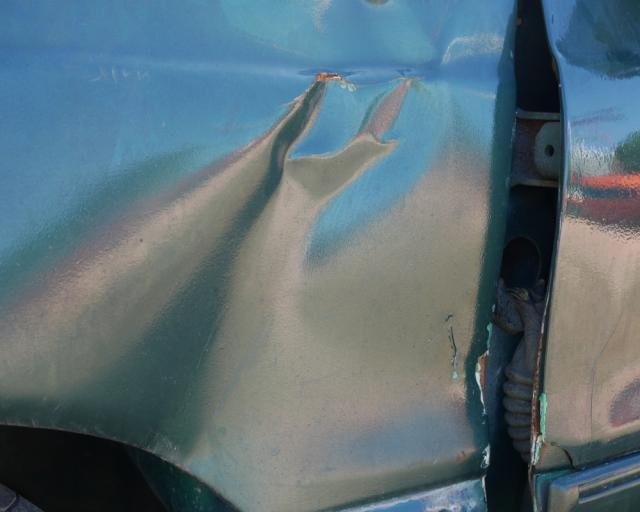dent: (43, 73, 451, 472)
